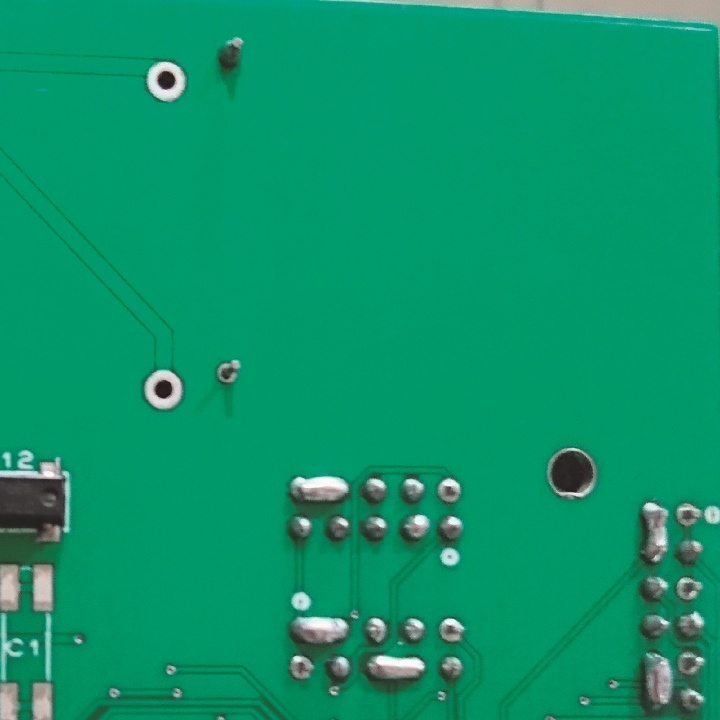F: (142, 60, 189, 104), (145, 366, 183, 414), (435, 612, 467, 648), (676, 645, 707, 679), (287, 650, 316, 683), (674, 574, 708, 602), (436, 476, 462, 512), (672, 499, 701, 529), (216, 357, 244, 387)
P: (287, 473, 351, 506), (641, 647, 672, 712), (641, 500, 670, 566), (290, 614, 349, 646), (367, 654, 425, 683)
